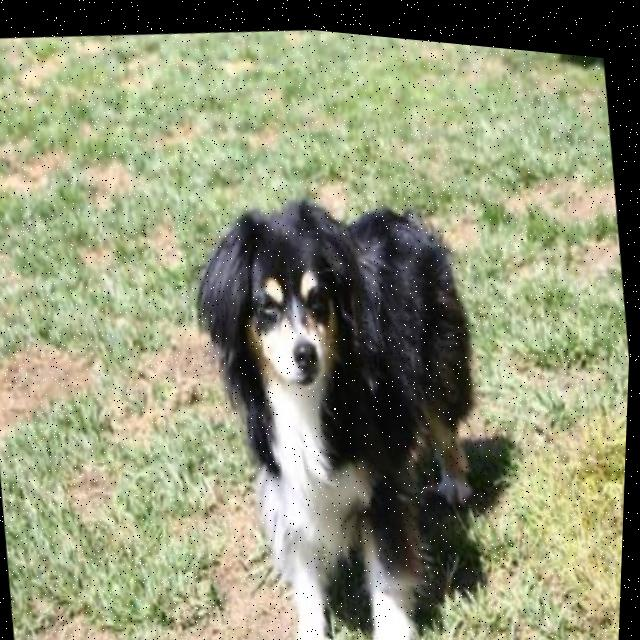dogs: (167, 165, 522, 640)
